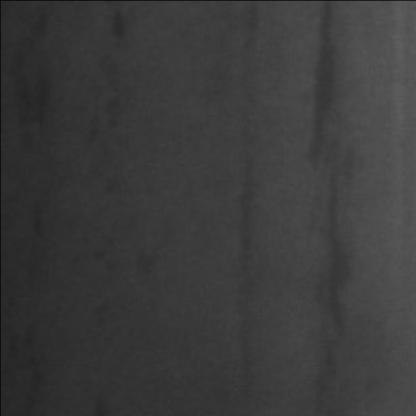inclusion: (302, 4, 370, 412), (4, 4, 52, 210), (231, 146, 277, 322)
